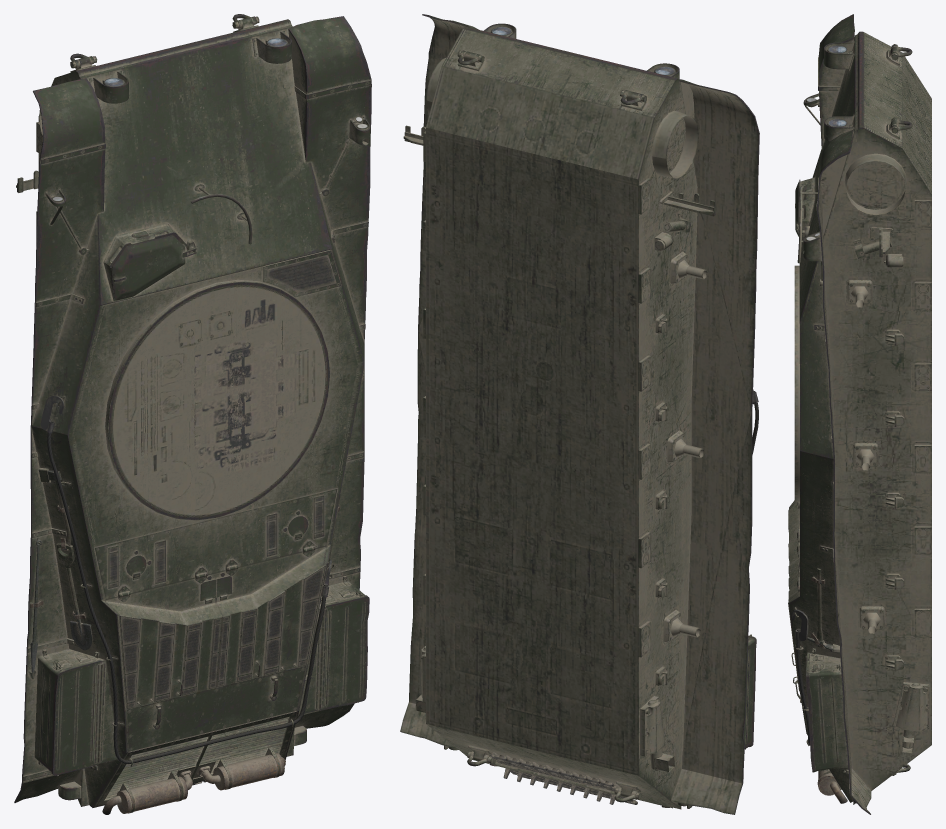
Rendered from Hull.glb.
The picture shows the model from 3 angles, left to right: view 1: azimuth 30°, elevation 25°; view 2: azimuth 150°, elevation 25°; view 3: azimuth 270°, elevation 25°; orthographic projection. The views are drawn at different scales.
Visible parts, largest first — view 1: set_0_group_0; view 2: set_0_group_0; view 3: set_0_group_0.
Part boxes in pixels (x1,y1,x2,y2): set_0_group_0: (14,14,371,814); set_0_group_0: (400,14,759,814); set_0_group_0: (788,14,931,814).
Size of the model in its own units: 3 by 6.37 by 1.21.
1 material, 1 textured.
